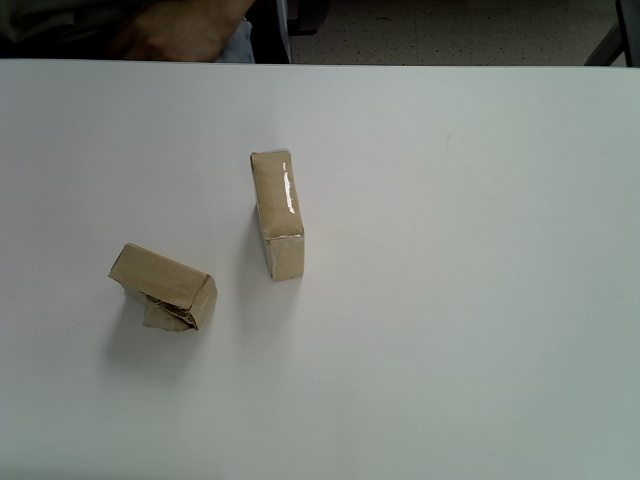defect: (108, 244, 217, 331)
normal: (250, 149, 309, 282)
